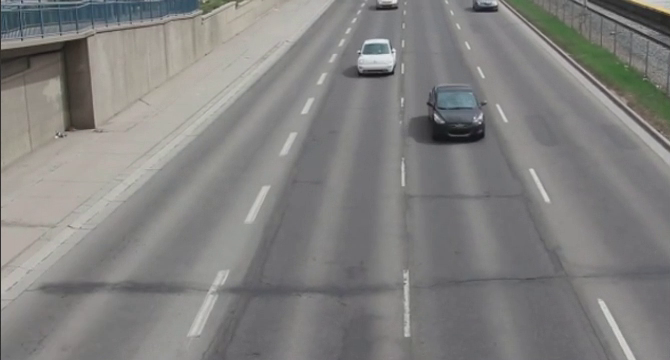car: (422, 80, 490, 144), (351, 37, 401, 80)
